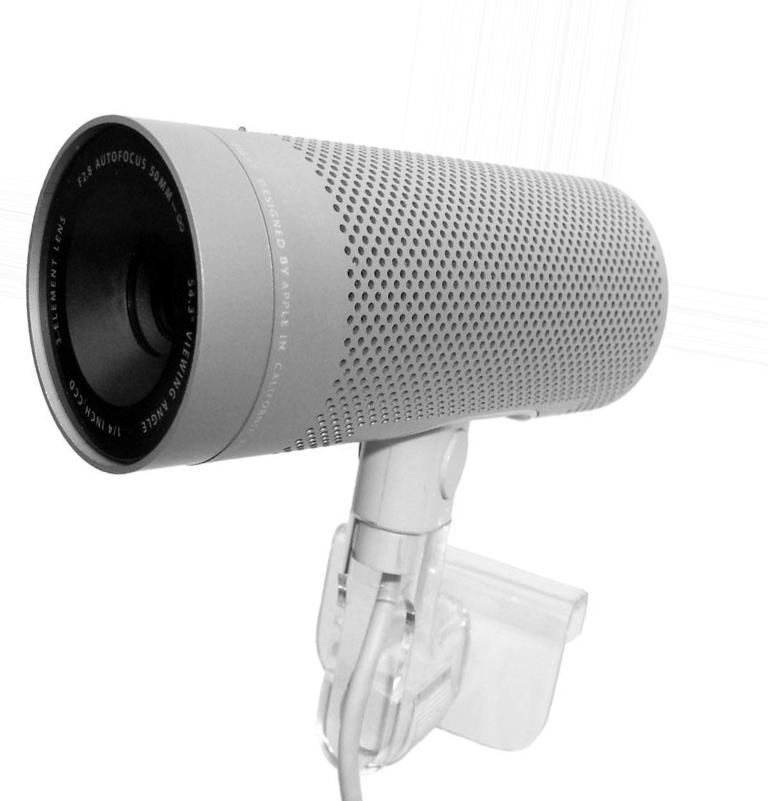webcam: (9, 112, 672, 484)
